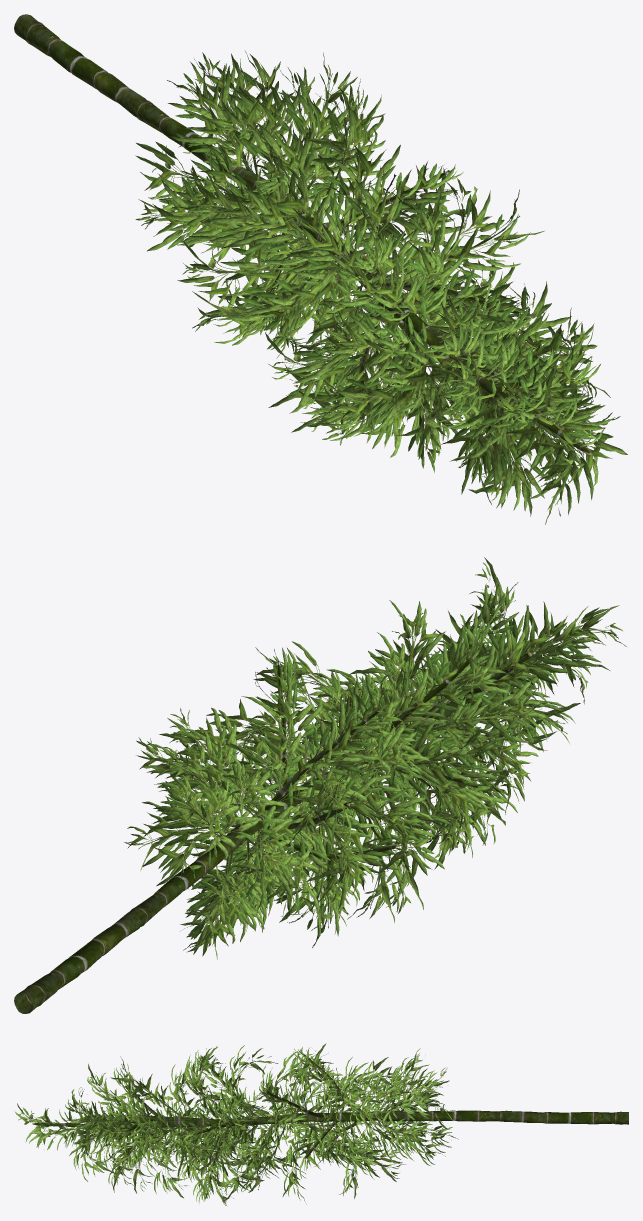
File: bamboo.obj
The picture shows the model from 3 angles, top to bottom: view 1: azimuth 30°, elevation 25°; view 2: azimuth 150°, elevation 25°; view 3: azimuth 270°, elevation 25°; orthographic projection. The views are drawn at different scales.
Visible parts, largest first — view 1: Leaves, Fronds, Branches; view 2: Leaves, Fronds, Branches; view 3: Leaves, Fronds, Branches.
Part boxes in pixels (<box>): Leaves: <box>135,52,627,514</box>; Fronds: <box>135,51,620,524</box>; Branches: <box>14,14,589,459</box>; Leaves: <box>127,562,622,956</box>; Fronds: <box>124,557,626,959</box>; Branches: <box>14,622,559,1013</box>; Leaves: <box>15,1045,451,1205</box>; Fronds: <box>17,1043,458,1204</box>; Branches: <box>34,1053,628,1198</box>.
Size of the model in its own units: 1.19 by 1.21 by 4.3.
Materials: 4 (4 with a texture image).
